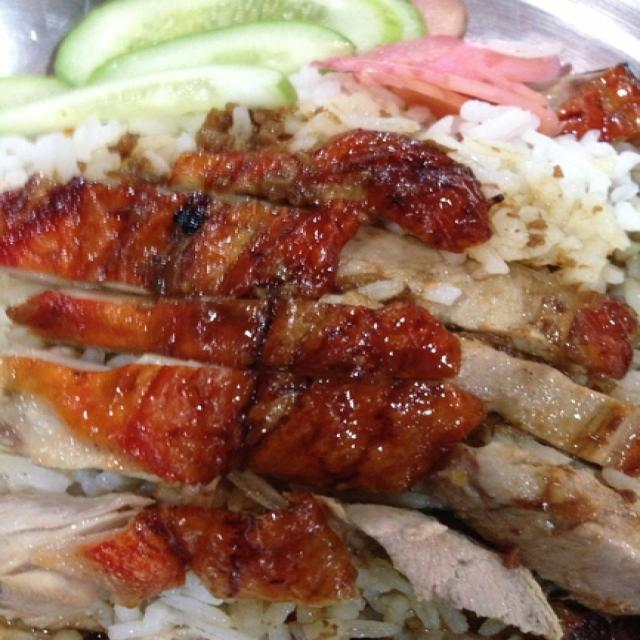米饭主食: (27, 18, 632, 618)
